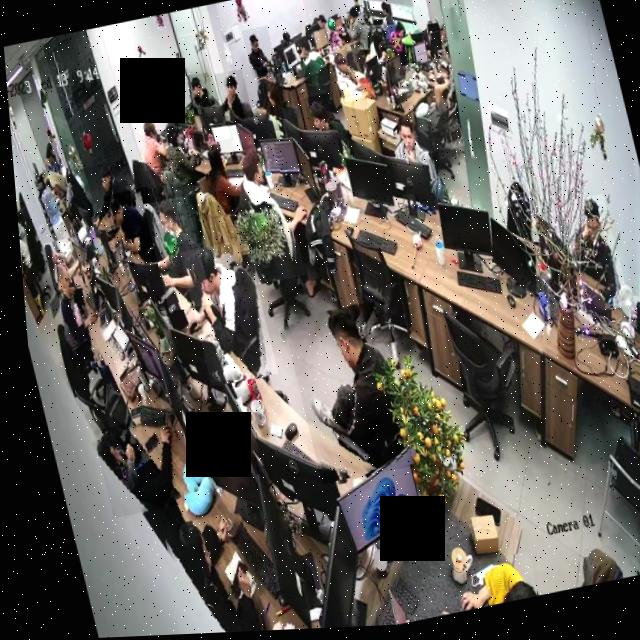person: (276, 304, 407, 489), (145, 511, 261, 636), (175, 240, 272, 389), (220, 146, 301, 289), (84, 414, 192, 519), (554, 198, 625, 320), (139, 196, 207, 315), (43, 257, 108, 373), (398, 61, 462, 159), (440, 555, 529, 615), (100, 188, 161, 270), (77, 161, 135, 239), (192, 139, 246, 221), (379, 115, 435, 193), (154, 118, 207, 197), (129, 116, 176, 191), (326, 44, 374, 107), (288, 34, 332, 102), (40, 237, 84, 294), (213, 70, 252, 129), (252, 77, 296, 125), (241, 29, 278, 81), (302, 97, 341, 142), (175, 74, 215, 116), (344, 8, 375, 60), (370, 1, 399, 41)
